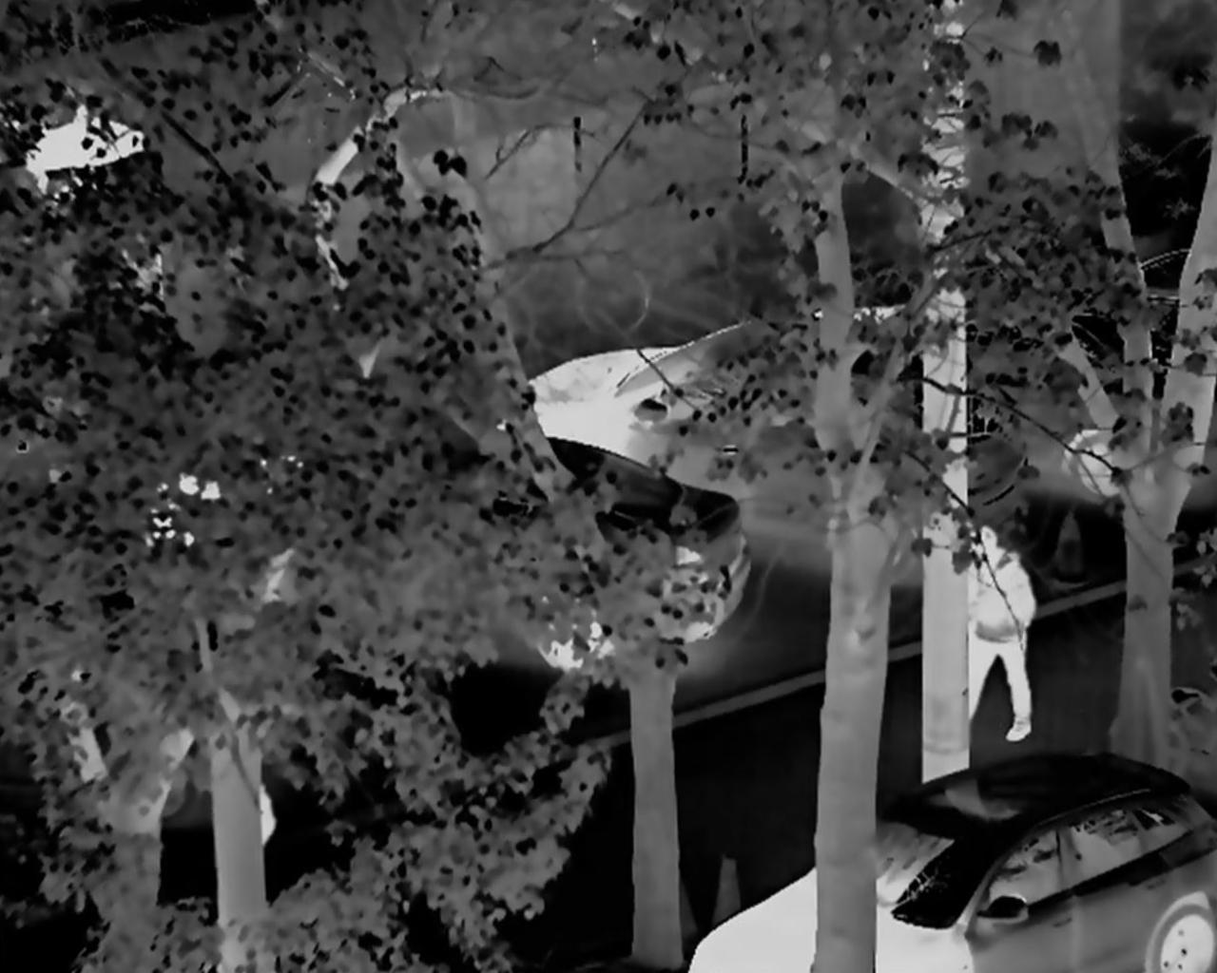person: (952, 520, 1035, 745)
